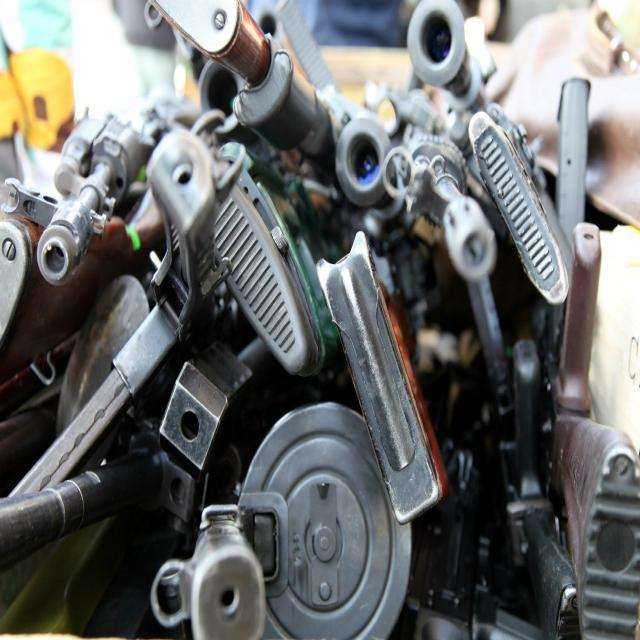firearm: (3, 113, 141, 290), (387, 132, 496, 288), (151, 503, 267, 640)
